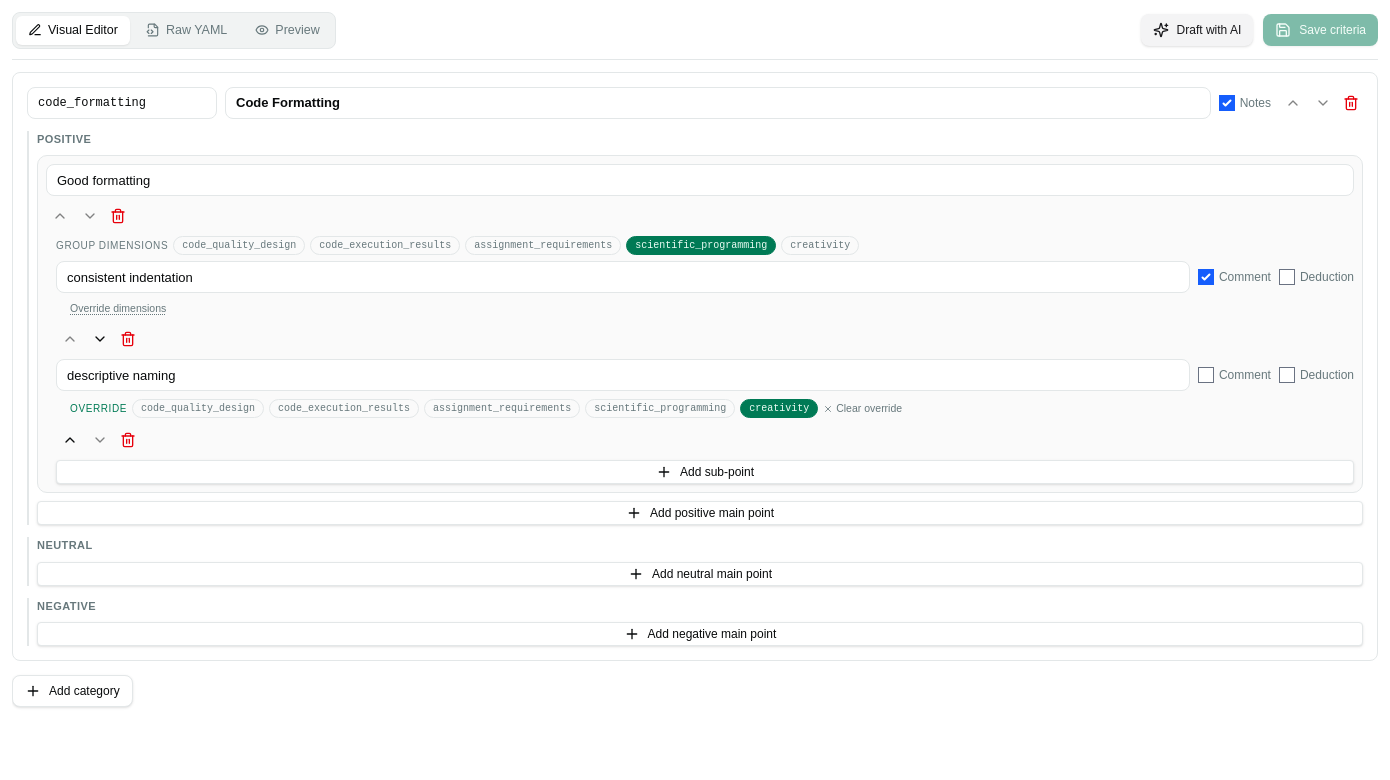
Test case: criteria editor — preview dimension chips › renders resolved dimension chips per sub-point in the Preview tab
The width and height of the screenshot is (1390, 780).
Step 1. Click the tab "Preview" → click(288, 30), box 243,16 -> 332,45
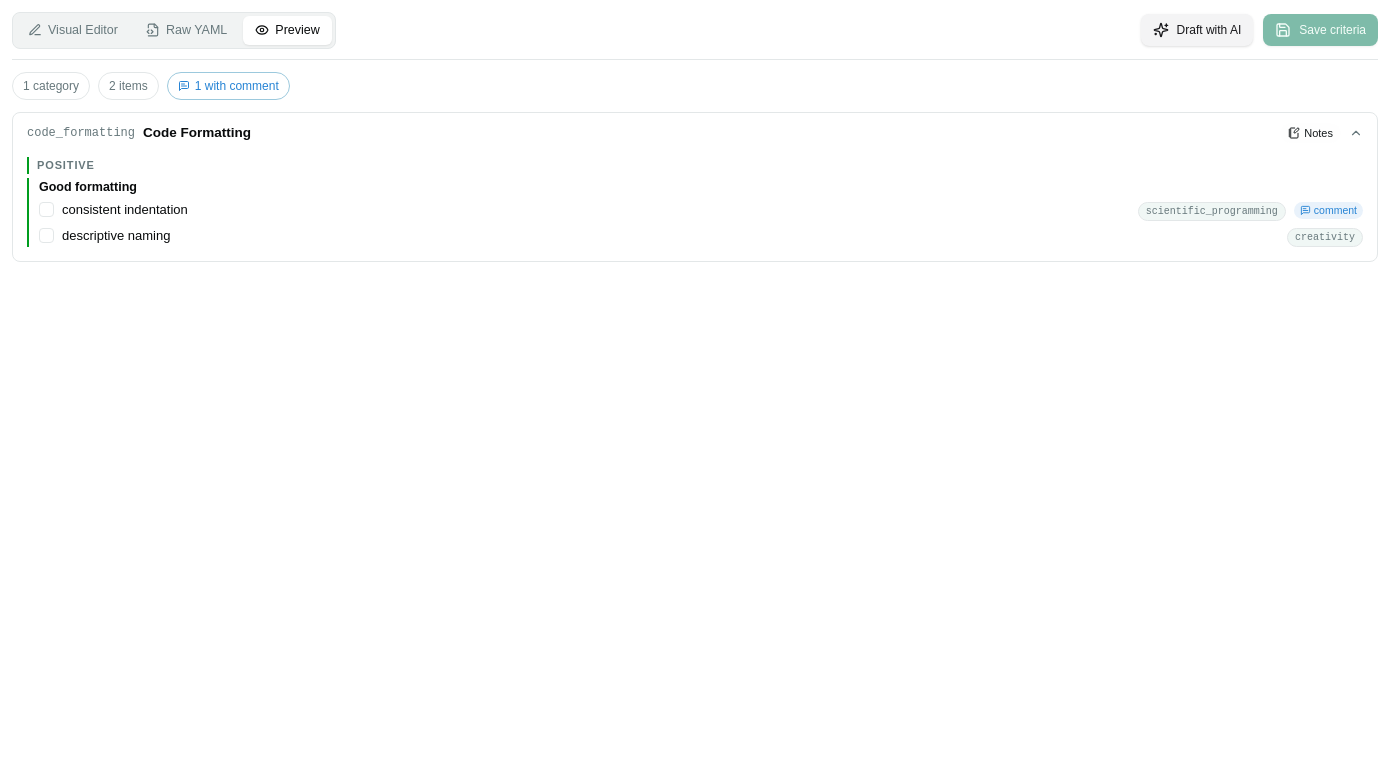
Now the number of list items is 2, box 39,200 -> 1363,220; 39,226 -> 1363,246
